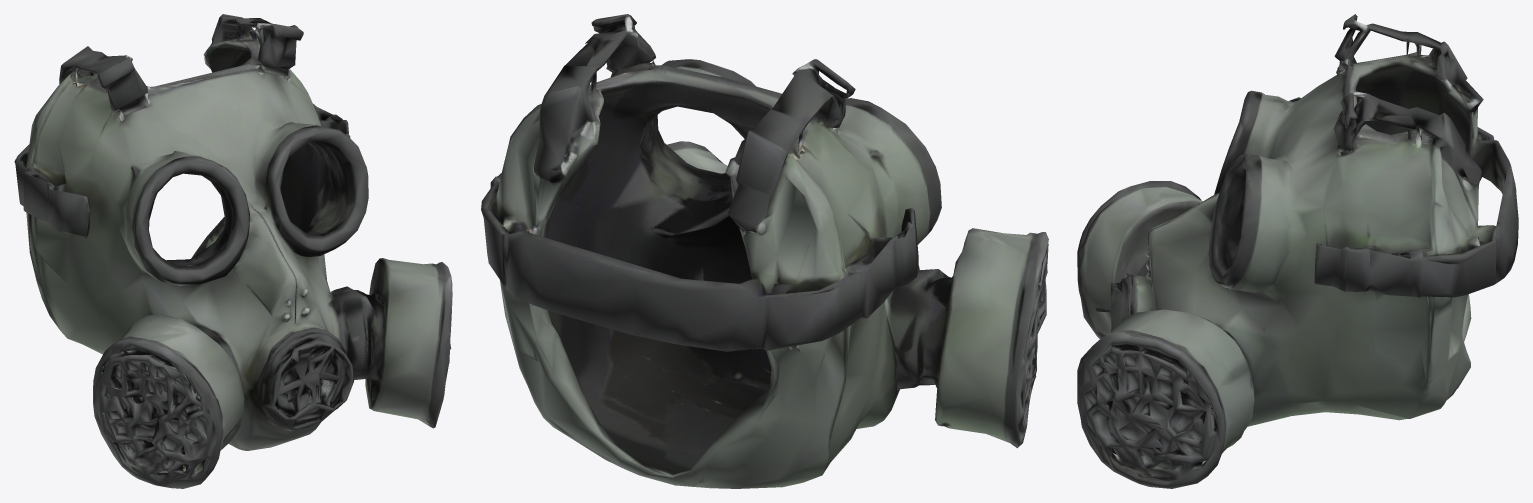
File: Meshy_AI_A_tactical_gas_mask__0703120839_texture.fbx
3 views of the same model, side by side, from view 1: azimuth 30°, elevation 25°; view 2: azimuth 150°, elevation 25°; view 3: azimuth 270°, elevation 25° (orthographic). The views are drawn at different scales.
Parts seen in each view (by area): view 1: Mesh_0; view 2: Mesh_0; view 3: Mesh_0.
Boxes of the visible parts, x1,y1,x2,y2 form: Mesh_0: [14, 14, 452, 488]; Mesh_0: [481, 14, 1048, 488]; Mesh_0: [1077, 14, 1518, 488].
Bounding box in the file's own units: 187 × 185 × 200.
1 material, 1 textured.
